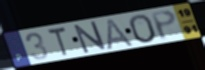3: (25, 32, 49, 61)
A: (105, 17, 135, 51)
N: (73, 20, 109, 55)
O: (128, 13, 158, 45)
P: (149, 9, 178, 42)
T: (46, 26, 71, 58)
